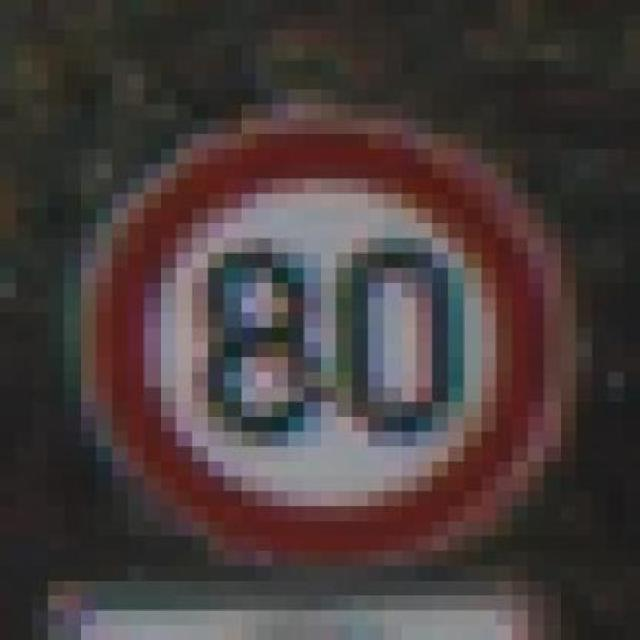forb_speed_over_80: (93, 115, 561, 567)
